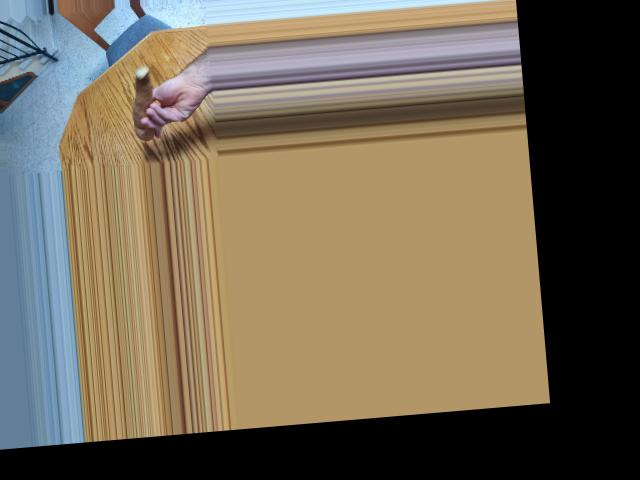sweet_potato: (128, 64, 163, 139)
